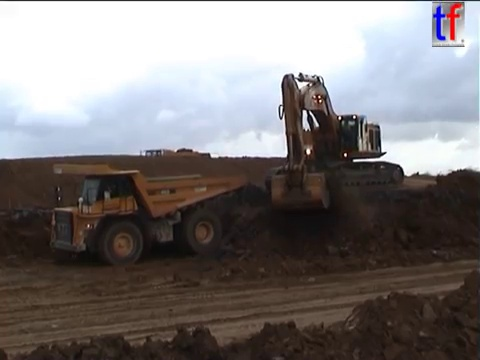excavator: (262, 69, 406, 212)
truck: (43, 160, 247, 266), (136, 147, 212, 169)
